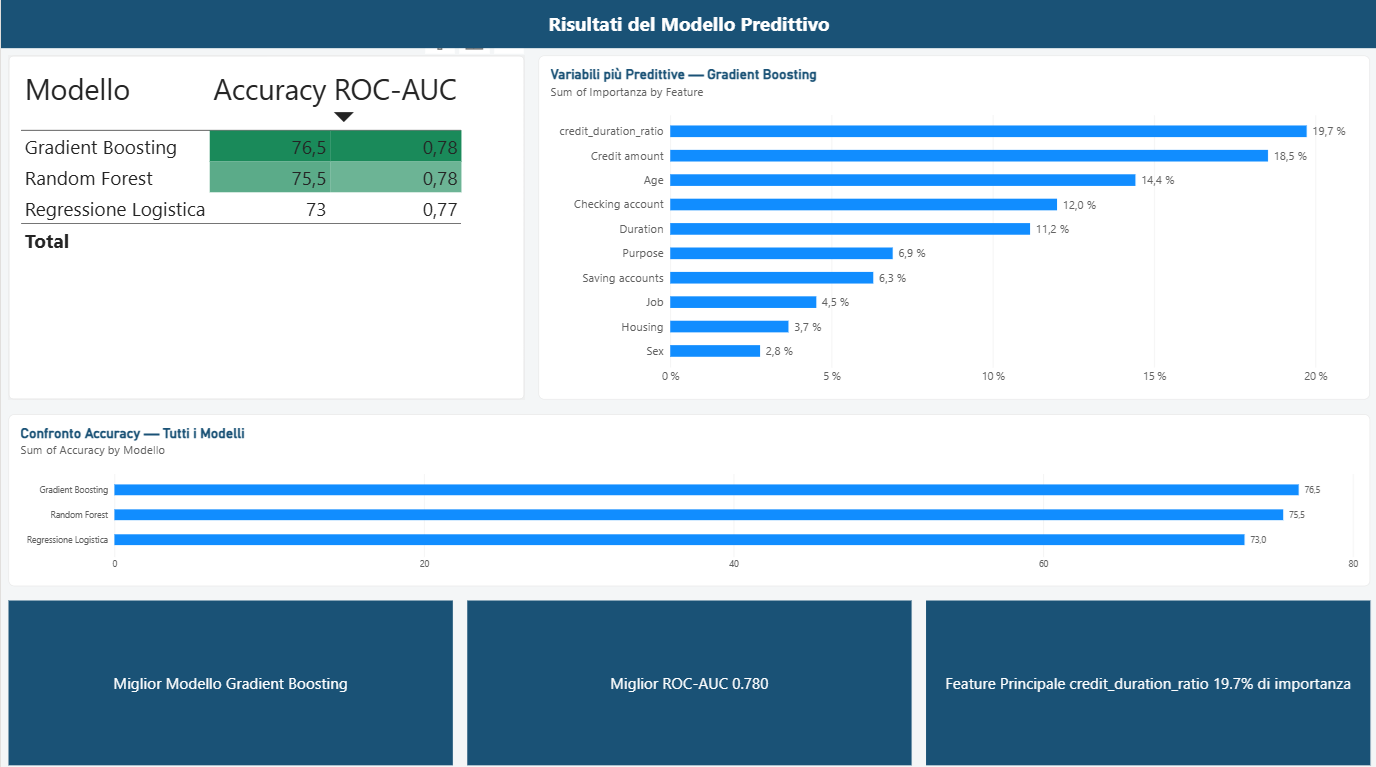

The dashboard page shown, as its layout file describes it:
{"tool":"powerbi","page":{"name":"Risultati Modello","canvas":[1920,1080],"ordinal":2},"visuals":[{"type":"tableEx","fields":{"Values":["model_results.Modello","model_results.Accuracy","model_results.ROC-AUC"]},"box":[10,80,720,480],"z":0},{"type":"barChart","title":"Variabili più Predittive — Gradient Boosting","fields":{"Category":["feature_importance.Feature"],"Y":["Sum(feature_importance.Importanza)"]},"box":[750,80,1160,480],"z":1000},{"type":"textbox","box":[1430.2,1023.8,420,57],"z":2000},{"type":"barChart","title":"Confronto Accuracy — Tutti i Modelli","fields":{"Category":["model_results.Modello"],"Y":["Sum(model_results.Accuracy)"]},"box":[10,580,1900,240],"z":3000},{"type":"shape","box":[0,0,1920.4,70],"z":4000},{"type":"shape","box":[10,840,620,230],"z":5000},{"type":"shape","box":[650,840,620,230],"z":6000},{"type":"shape","box":[1290,840,620,230],"z":7000}]}

Visuals, with their boxes in screenshot pixels (x1, y1, x2, y2), scaled from the page's 1920x1080 canvas onto the 1376x767 screenshot:
tableEx - model_results.Modello x model_results.Accuracy: Rect(7, 57, 523, 398)
"Variabili più Predittive — Gradient Boosting" barChart: Rect(538, 57, 1369, 398)
textbox: Rect(1025, 727, 1326, 766)
"Confronto Accuracy — Tutti i Modelli" barChart: Rect(7, 412, 1369, 582)
shape: Rect(0, 0, 1375, 50)
shape: Rect(7, 597, 452, 760)
shape: Rect(466, 597, 910, 760)
shape: Rect(924, 597, 1369, 760)
